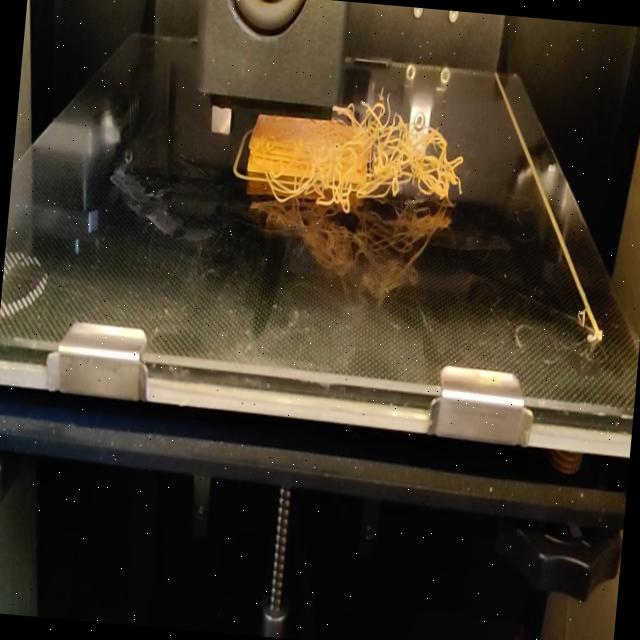spaghetti: (330, 78, 469, 233), (264, 122, 339, 216)
